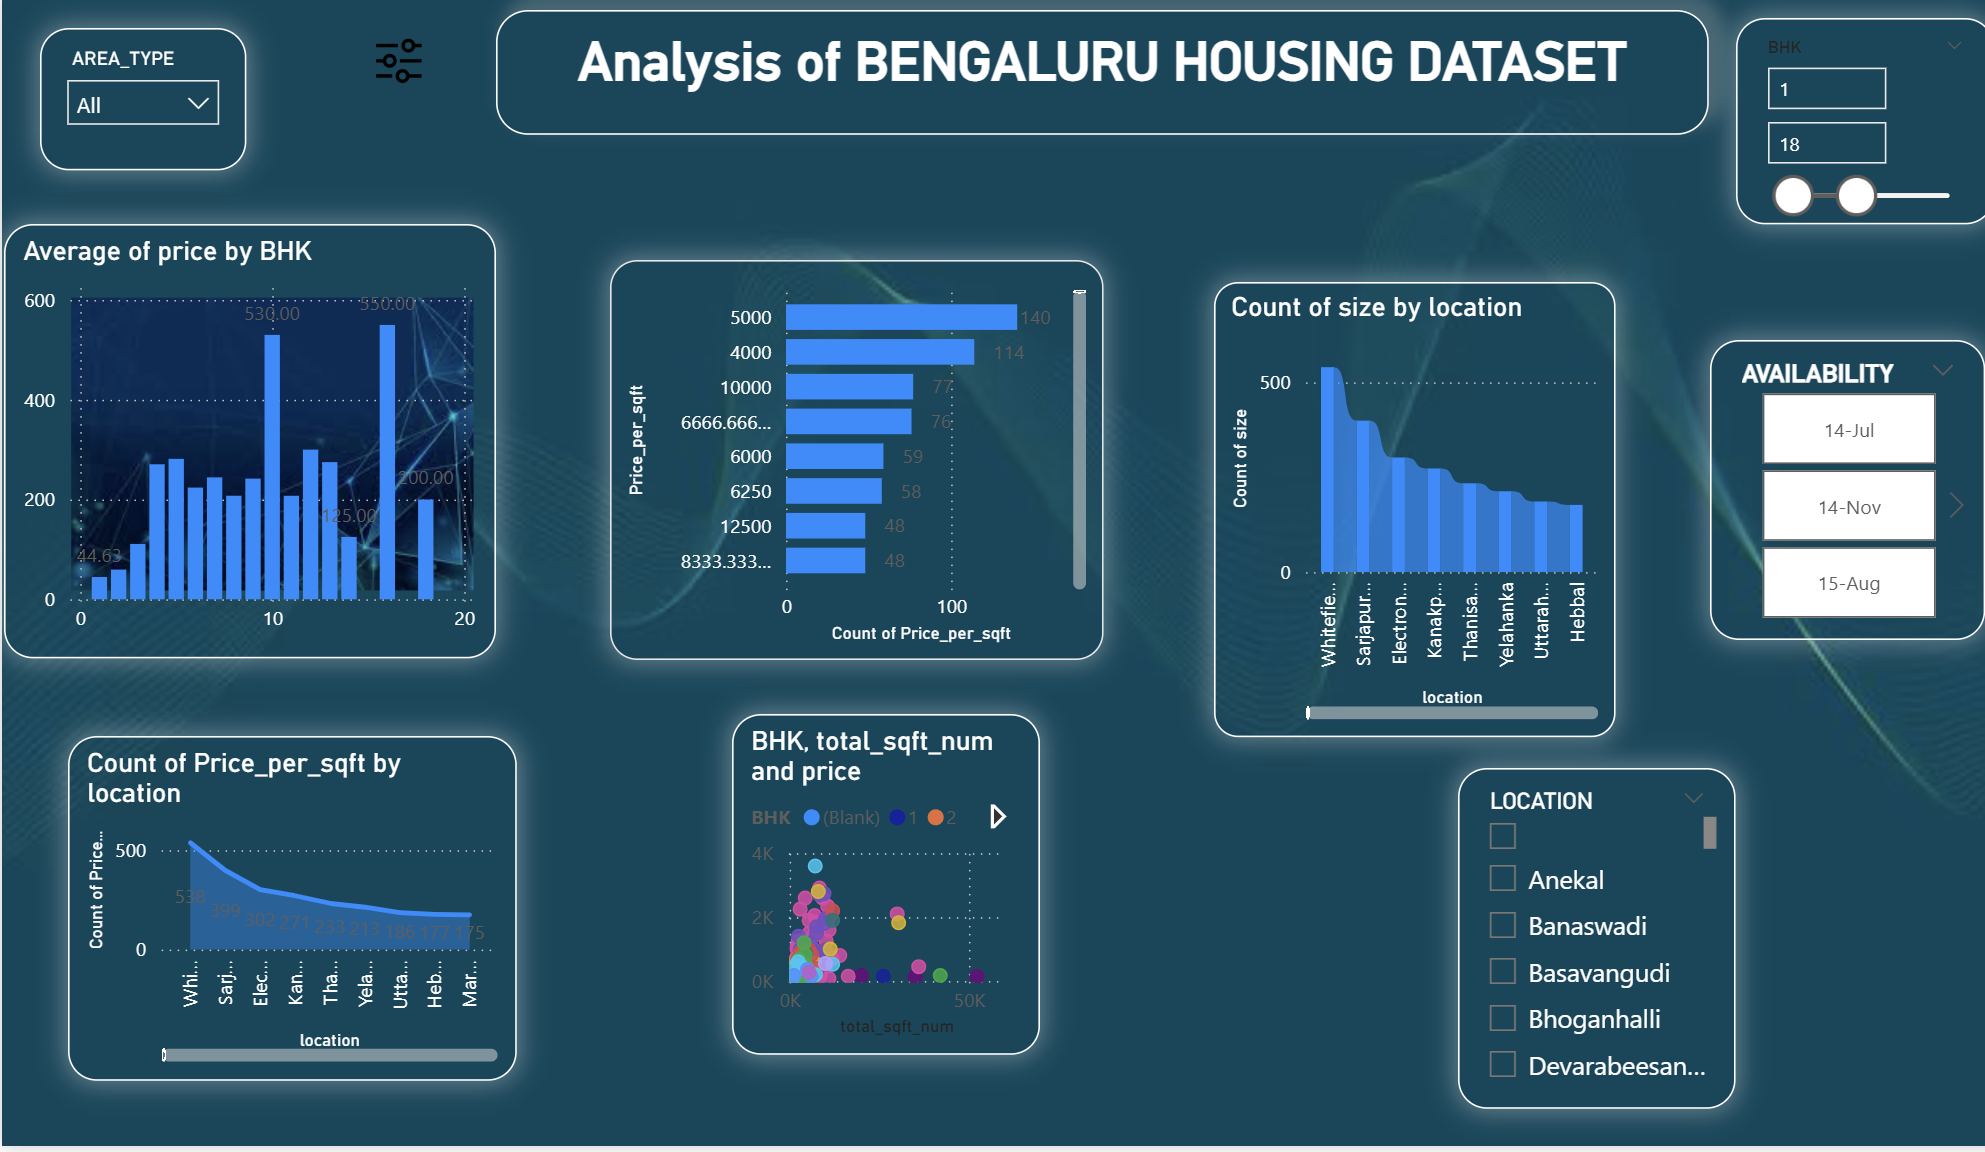

What the dashboard file says about the page in this screenshot:
{"tool":"powerbi","page":{"name":"Dashboard","canvas":[1280,720],"ordinal":0},"visuals":[{"type":"textbox","box":[309,10.5,758.2,78],"z":2000},{"type":"clusteredColumnChart","fields":{"Category":["Bengaluru_House_Data_new.BHK"],"Y":["Avg(Bengaluru_House_Data_new.price)"]},"box":[1.3,144.1,307.3,271.6],"z":3000},{"type":"clusteredBarChart","fields":{"Category":["Bengaluru_House_Data_new.Price_per_sqft"],"Y":["CountNonNull(Bengaluru_House_Data_new.Price_per_sqft)"]},"box":[379.9,165.7,308.5,249.9],"z":4000},{"type":"ribbonChart","fields":{"Category":["Bengaluru_House_Data_new.location"],"Y":["CountNonNull(Bengaluru_House_Data_new.size)"]},"box":[757.3,179.8,251.2,284.3],"z":5000},{"type":"stackedAreaChart","fields":{"Category":["Bengaluru_House_Data_new.location"],"Y":["CountNonNull(Bengaluru_House_Data_new.Price_per_sqft)"]},"box":[40.8,464.1,280.5,215.5],"z":6000},{"type":"scatterChart","fields":{"X":["Bengaluru_House_Data_new.total_sqft_num"],"Y":["Bengaluru_House_Data_new.price"],"Series":["Bengaluru_House_Data_new.BHK"]},"box":[456.4,450,192.5,212.9],"z":7000},{"type":"slicer","fields":{"Values":["Bengaluru_House_Data_new.location"]},"box":[910.3,483.2,173.4,212.9],"z":8000},{"type":"slicer","fields":{"Values":["Bengaluru_House_Data_new.BHK"]},"box":[1083.8,15,161.2,128.8],"z":9000},{"type":"slicer","fields":{"Values":["Bengaluru_House_Data_new.area_type"]},"box":[24.2,21.7,128.8,89.2],"z":10000},{"type":"slicer","fields":{"Values":["Bengaluru_House_Data_new.availability"]},"box":[1067.1,216.7,172.1,187.4],"z":11000}]}

Visuals, with their boxes on the page's 1280x720 design canvas (x1, y1, x2, y2). These are canvas units, not pixel positions in the 1985x1152 screenshot, which may show the page scaled, cropped or inside an application window:
textbox: left=309, top=10, right=1067, bottom=88
clusteredColumnChart - Bengaluru_House_Data_new.BHK x Avg(Bengaluru_House_Data_new.price): left=1, top=144, right=309, bottom=416
clusteredBarChart - Bengaluru_House_Data_new.Price_per_sqft x CountNonNull(Bengaluru_House_Data_new.Price_per_sqft): left=380, top=166, right=688, bottom=416
ribbonChart - Bengaluru_House_Data_new.location x CountNonNull(Bengaluru_House_Data_new.size): left=757, top=180, right=1008, bottom=464
stackedAreaChart - Bengaluru_House_Data_new.location x CountNonNull(Bengaluru_House_Data_new.Price_per_sqft): left=41, top=464, right=321, bottom=680
scatterChart - Bengaluru_House_Data_new.total_sqft_num x Bengaluru_House_Data_new.price: left=456, top=450, right=649, bottom=663
slicer - Bengaluru_House_Data_new.location: left=910, top=483, right=1084, bottom=696
slicer - Bengaluru_House_Data_new.BHK: left=1084, top=15, right=1245, bottom=144
slicer - Bengaluru_House_Data_new.area_type: left=24, top=22, right=153, bottom=111
slicer - Bengaluru_House_Data_new.availability: left=1067, top=217, right=1239, bottom=404
